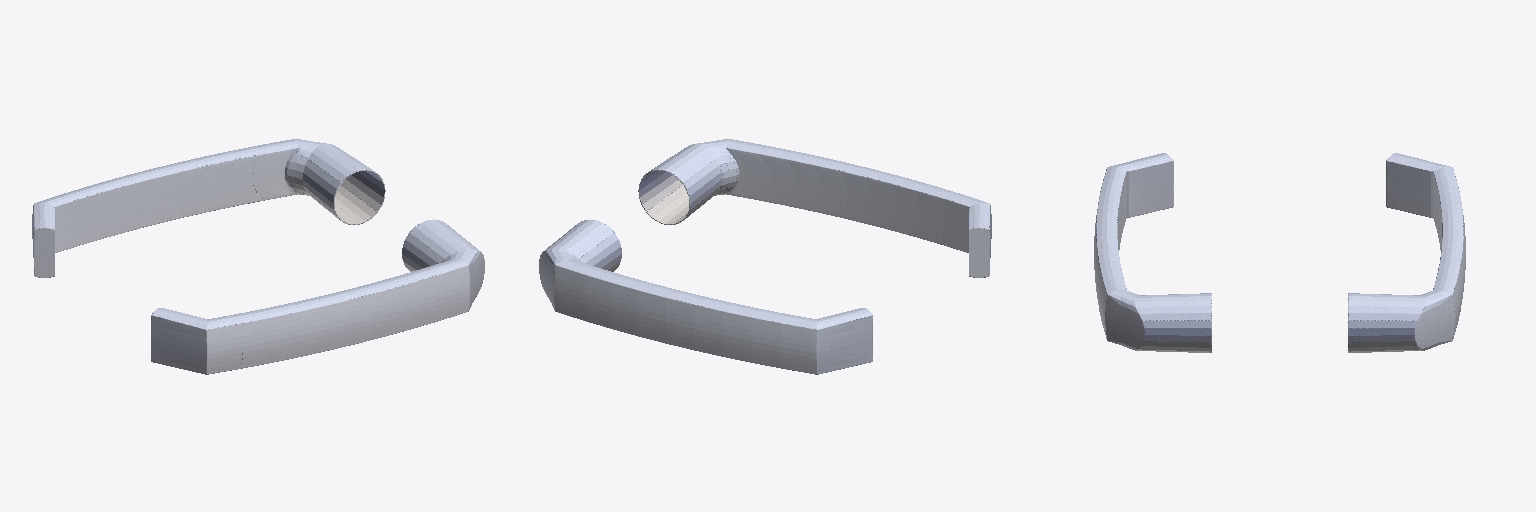
3 renders of one model, left to right at view 1: azimuth 30°, elevation 25°; view 2: azimuth 150°, elevation 25°; view 3: azimuth 270°, elevation 25°, orthographic.
Parts seen in each view (by area): view 1: 055_knob_centered; view 2: 055_knob_centered; view 3: 055_knob_centered.
Boxes of the visible parts, x1=… form: 055_knob_centered: x1=32, y1=139, x2=484, y2=374; 055_knob_centered: x1=539, y1=139, x2=991, y2=374; 055_knob_centered: x1=1094, y1=153, x2=1465, y2=352.
Bounding box in the file's own units: 16.38 × 2.61 × 16.11.
1 materials, 1 textured.